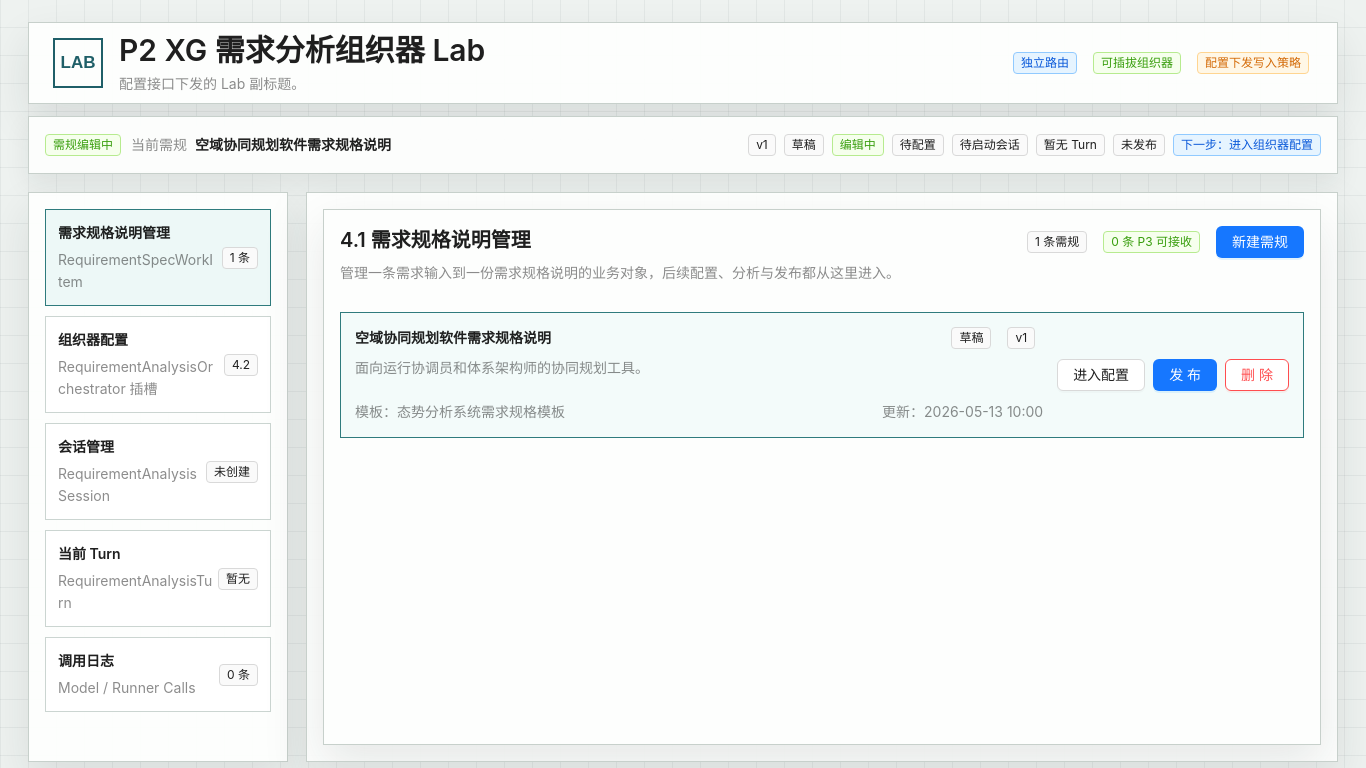
Test case: shows a business publish precondition message when the spec has blocking gaps
Check: the heading "P2 XG 需求分析组织器 Lab" is shown, box [119,31,485,69]
Click the button named "发布": click(1185, 375) [1153,359,1217,391]
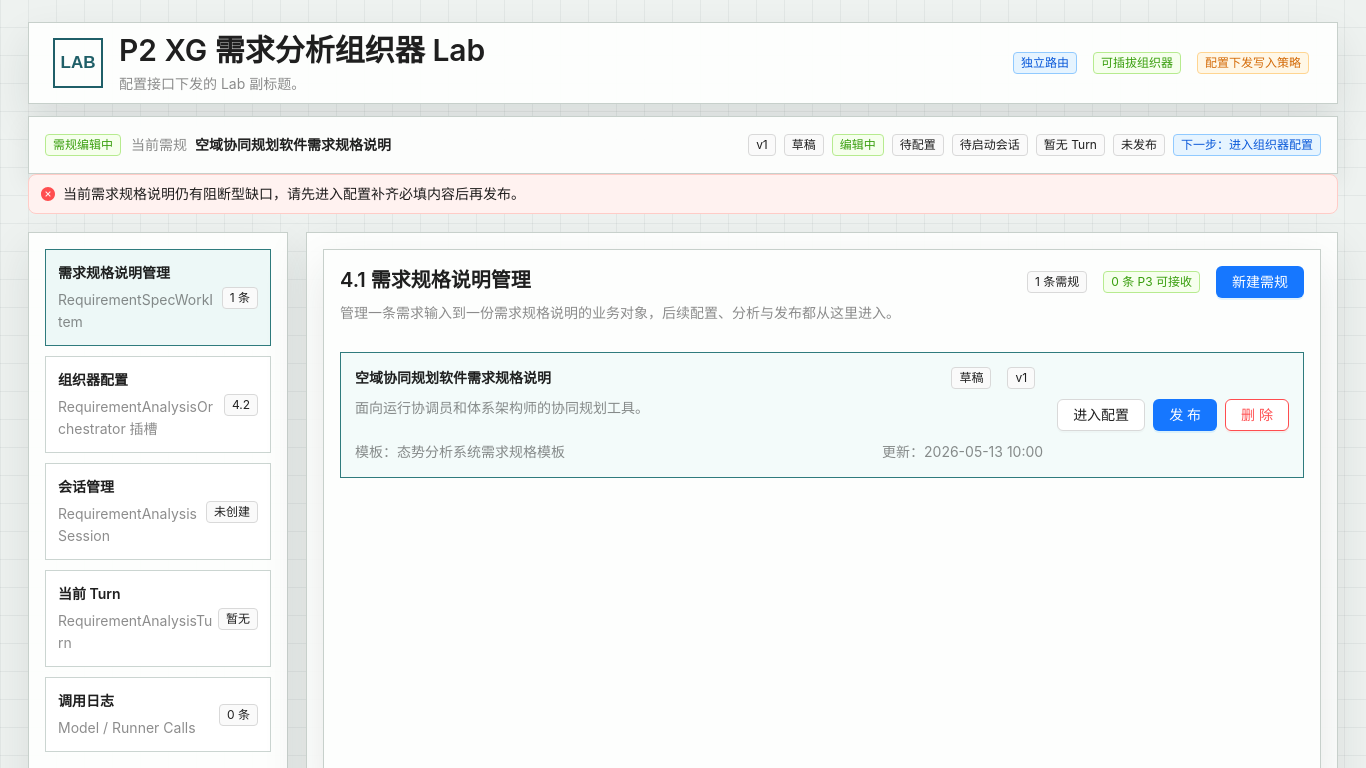
Check: the text "当前需求规格说明仍有阻断型缺口，请先进入配置补齐必填内容后再发布。" is shown, box [63,185,525,202]
